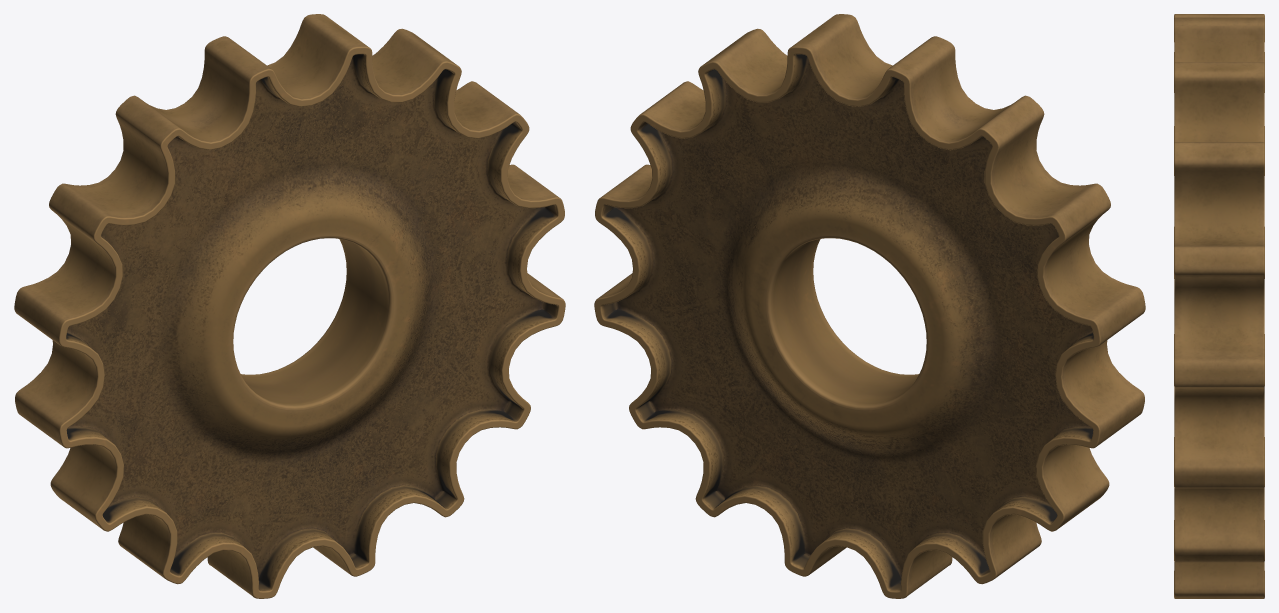
File: gear_16.gltf
The picture shows the model from 3 angles, left to right: view 1: azimuth 30°, elevation 25°; view 2: azimuth 150°, elevation 25°; view 3: azimuth 270°, elevation 25°; orthographic projection.
Visible parts, largest first — view 1: gear_16; view 2: gear_16; view 3: gear_16.
Part boxes in pixels (x1=…): gear_16: x1=14, y1=14, x2=565, y2=598; gear_16: x1=594, y1=14, x2=1145, y2=598; gear_16: x1=1174, y1=14, x2=1264, y2=598.
Bounding box in the file's own units: 3.73 × 3.73 × 0.5816.
Materials: 1 (1 with a texture image).
